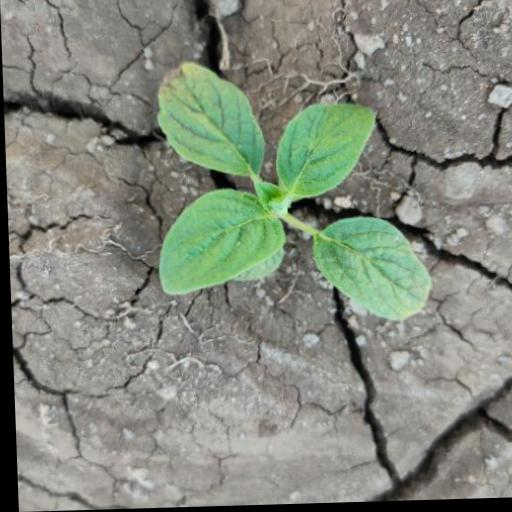crop: (100, 18, 498, 387)
